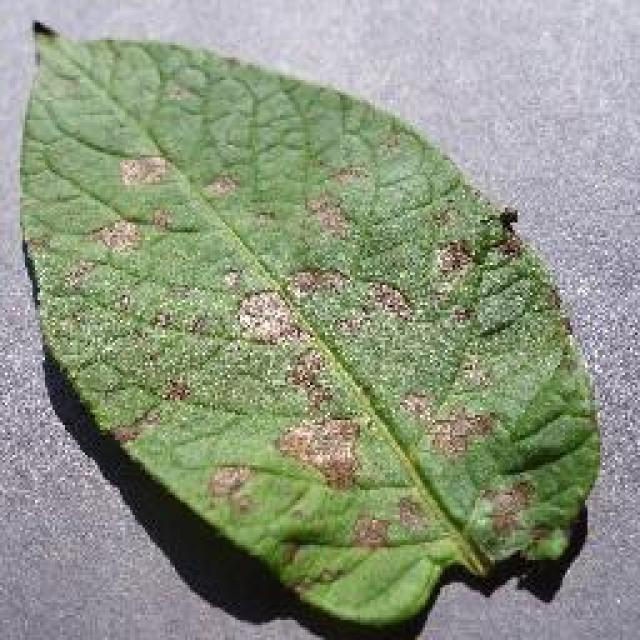early_blight: (13, 20, 605, 638)
